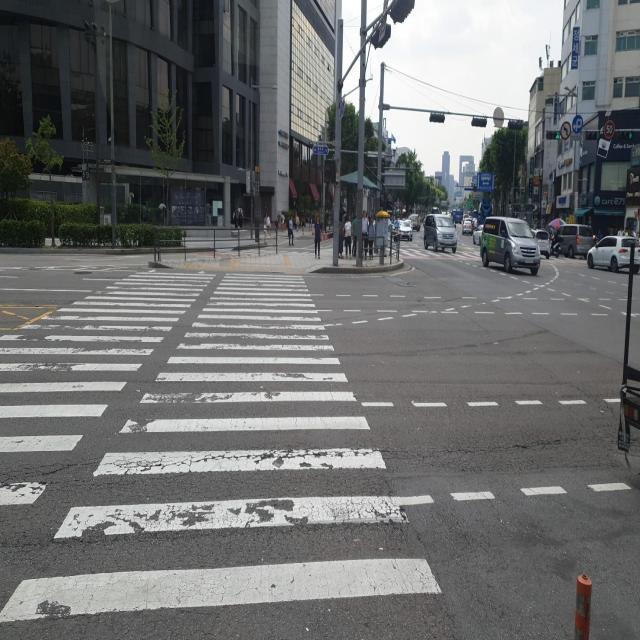횡단보도: (0, 267, 443, 624)
